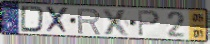2: (166, 10, 187, 39)
D: (20, 5, 46, 34)
P: (137, 9, 162, 38)
R: (76, 7, 102, 36)
X: (101, 8, 132, 37), (44, 6, 70, 36)
